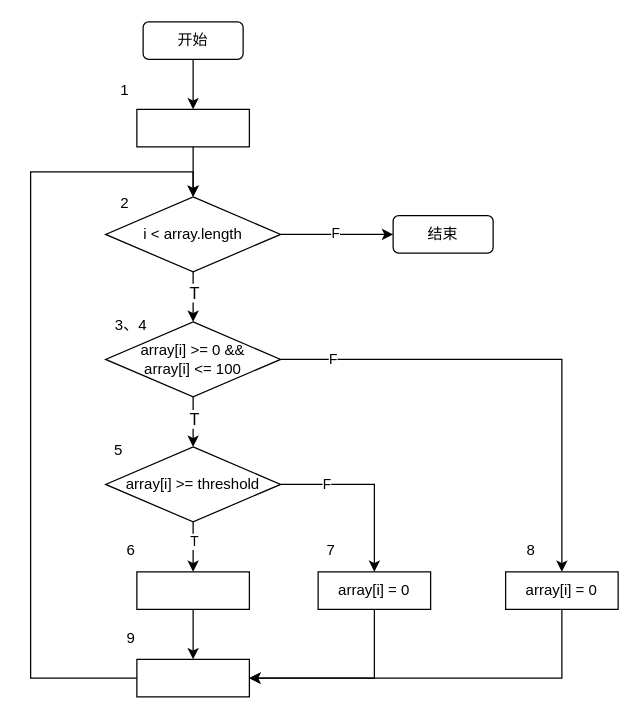
Some shapes in this 640 by 719 pixel diagram are drawn without their labels. The shapes that lost their labels are listed below. From the top down, each one's centre as x and y in pixels, then its label:
At point 192,127: "i = 0".
At point 192,590: "array[i] = 1".
At point 192,677: "i = i + 1".
